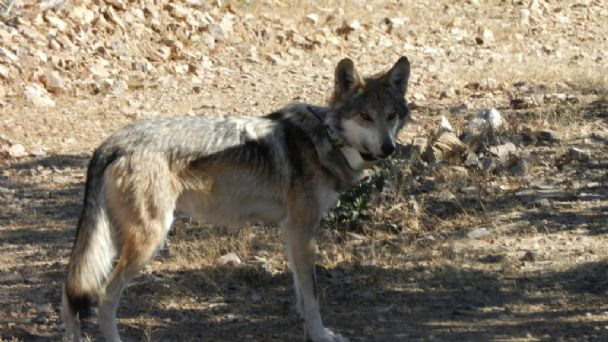Lobo: (64, 49, 421, 334)
